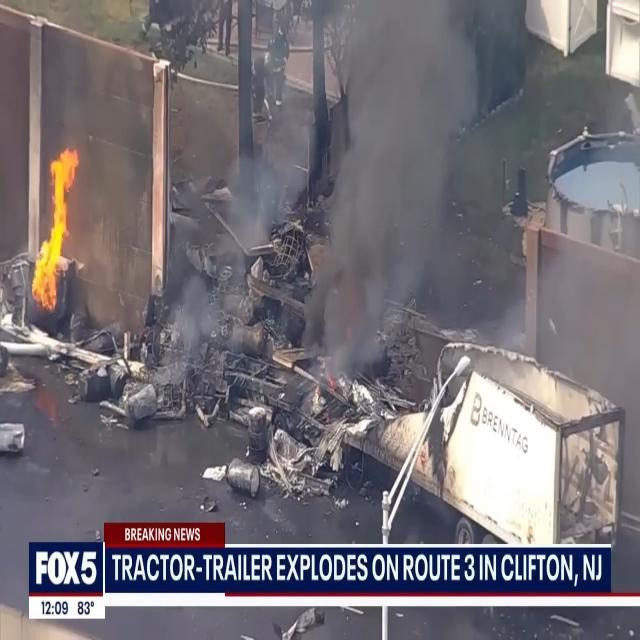fire: (29, 138, 88, 318)
